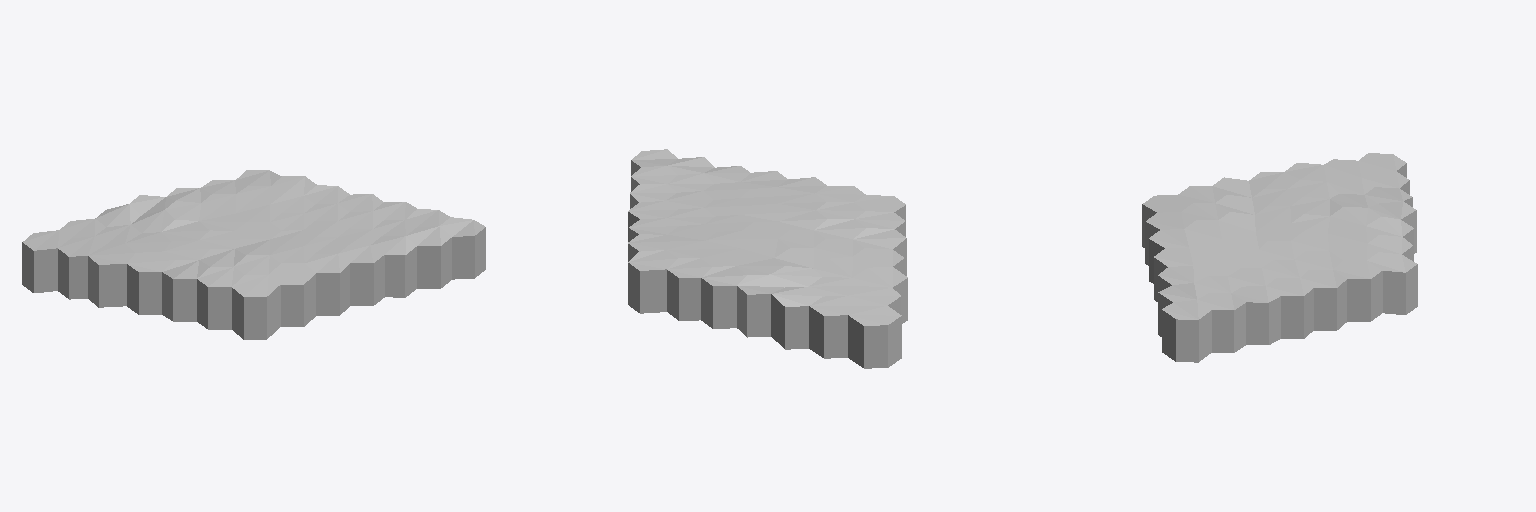
File: hex49.obj
3 renders of one model, left to right at view 1: azimuth 30°, elevation 25°; view 2: azimuth 150°, elevation 25°; view 3: azimuth 270°, elevation 25°, orthographic.
Parts seen in each view (by area): view 1: cell.042_base3.034, cell.037_base2.003, cell.043_base3.035, cell.036_base1.003, cell.041_base3.033, cell.040_base3.032, cell.045_base3.037, cell.039_base3.031, cell.048_base3.040, cell.047_base3.039, cell.044_base3.036, cell.046_base3.038 (+28 smaller); view 2: cell.040_base3.032, cell.019_base3.015, cell.031_base3.027, cell.021_base3.017, cell.023_base3.019, cell.022_base3.018, cell.020_base3.016, cell.037_base2.003, cell.039_base3.031, cell.038_base3.030, cell.036_base1.003, cell.034_base2.002 (+28 smaller); view 3: cell.044_base3.036, cell.018_base3.014, cell.019_base3.015, cell.028_base3.024, cell.029_base3.025, cell.016_base3.012, cell.017_base3.013, cell.047_base3.039, cell.048_base3.040, cell.043_base3.035, cell.045_base3.037, cell.042_base3.034 (+28 smaller).
Part boxes in pixels (x1,y1,x2,y2): cell.042_base3.034: (232, 275, 280, 339); cell.037_base2.003: (88, 244, 134, 307); cell.043_base3.035: (269, 263, 315, 326); cell.036_base1.003: (127, 251, 174, 314); cell.041_base3.033: (197, 267, 244, 329); cell.040_base3.032: (22, 230, 70, 292); cell.045_base3.037: (406, 226, 451, 288); cell.039_base3.031: (162, 260, 209, 321); cell.048_base3.040: (338, 245, 384, 305); cell.047_base3.039: (305, 254, 349, 315); cell.044_base3.036: (440, 217, 485, 279); cell.046_base3.038: (370, 236, 416, 297); cell.040_base3.032: (848, 306, 901, 368); cell.019_base3.015: (628, 250, 677, 313); cell.031_base3.027: (809, 296, 861, 358); cell.021_base3.017: (771, 287, 822, 349); cell.023_base3.019: (701, 266, 746, 328); cell.022_base3.018: (737, 274, 784, 337); cell.020_base3.016: (667, 258, 711, 320); cell.037_base2.003: (853, 267, 907, 323); cell.039_base3.031: (853, 228, 906, 275); cell.038_base3.030: (848, 286, 900, 314); cell.036_base1.003: (853, 248, 904, 274); cell.034_base2.002: (814, 257, 867, 277); cell.044_base3.036: (1162, 300, 1211, 362); cell.018_base3.014: (1333, 261, 1382, 321); cell.019_base3.015: (1367, 252, 1417, 314); cell.028_base3.024: (1231, 286, 1280, 344); cell.029_base3.025: (1198, 293, 1245, 352); cell.016_base3.012: (1266, 278, 1313, 338); cell.017_base3.013: (1301, 270, 1346, 330); cell.047_base3.039: (1149, 229, 1200, 283); cell.048_base3.040: (1154, 247, 1203, 301); cell.043_base3.035: (1145, 212, 1195, 265); cell.045_base3.037: (1158, 283, 1207, 336); cell.042_base3.034: (1142, 195, 1192, 247).
Bounding box in the file's own units: 17.47 × 2.57 × 11.68.